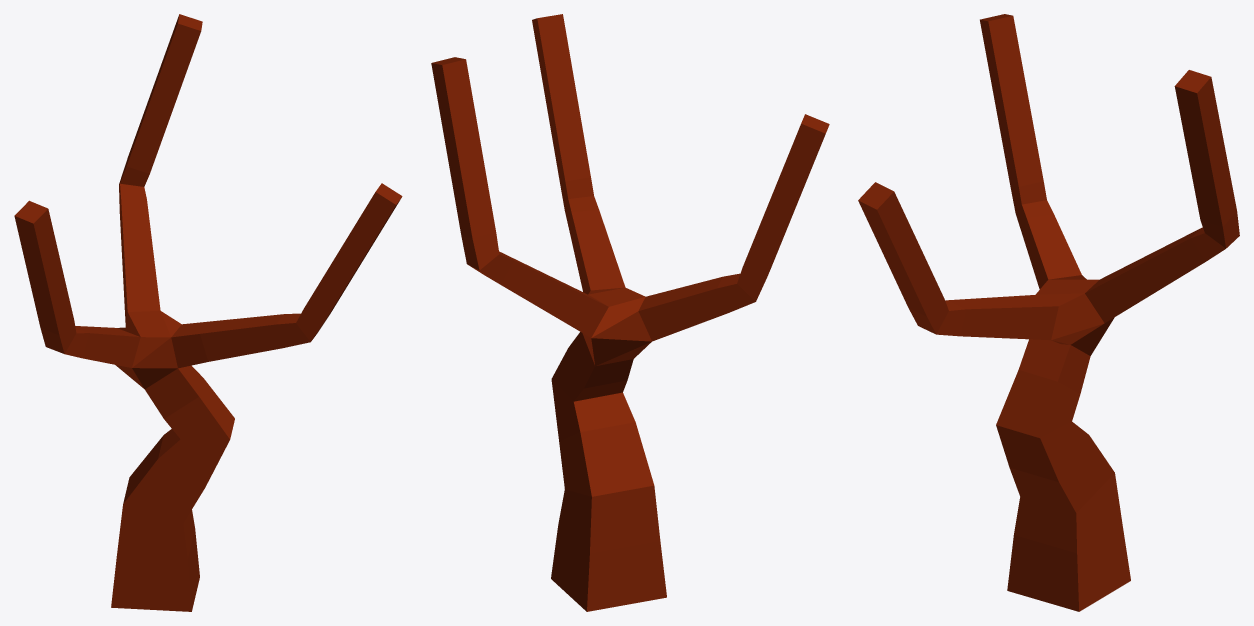
The model's file is Arbol_Podado_2.fbx.
3 renders of one model, left to right at view 1: azimuth 30°, elevation 25°; view 2: azimuth 150°, elevation 25°; view 3: azimuth 270°, elevation 25°, orthographic. The views are drawn at different scales.
Parts seen in each view (by area): view 1: Cube.004; view 2: Cube.004; view 3: Cube.004.
Part boxes in pixels (<box>): Cube.004: <box>14,14,402,611</box>; Cube.004: <box>431,14,829,611</box>; Cube.004: <box>858,14,1239,611</box>.
Size of the model in its own units: 1.14 by 1.69 by 1.05.
